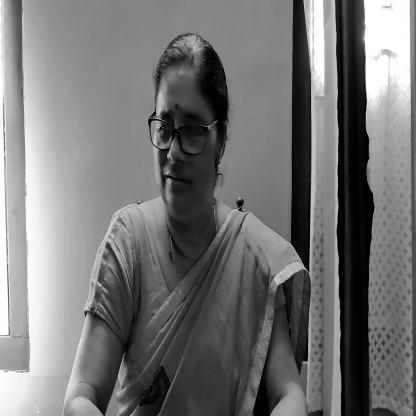Distracted: (150, 49, 229, 220)
